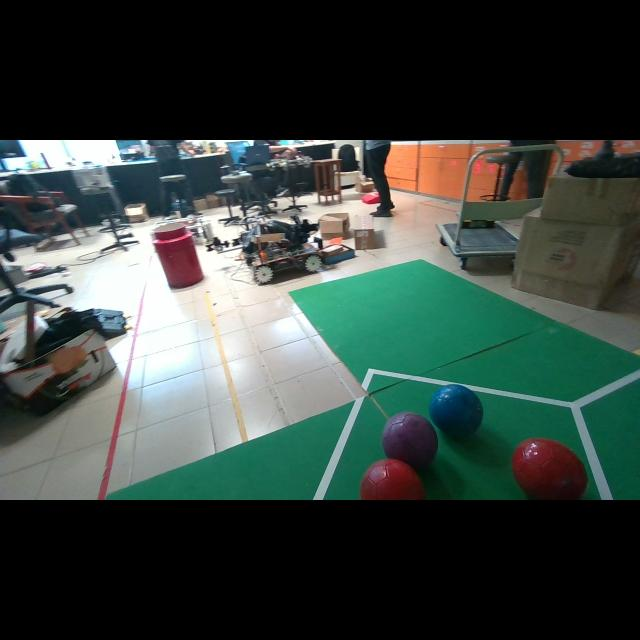B: (430, 384, 484, 436)
P: (382, 411, 438, 470)
R: (511, 438, 588, 500), (360, 459, 425, 500)
